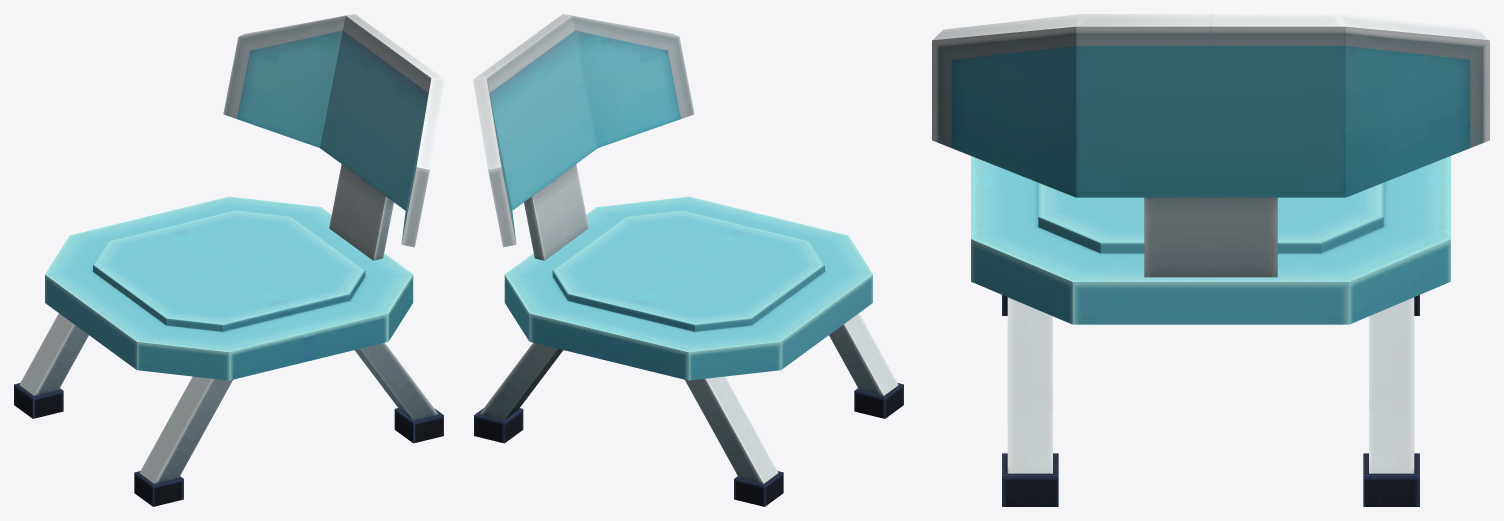
The model's file is my_millenniumlounge_01_chair_01.glb.
The picture shows the model from 3 angles, left to right: view 1: azimuth 30°, elevation 25°; view 2: azimuth 150°, elevation 25°; view 3: azimuth 270°, elevation 25°; orthographic projection. The views are drawn at different scales.
Parts seen in each view (by area): view 1: my_millenniumlounge_01_chair_01; view 2: my_millenniumlounge_01_chair_01; view 3: my_millenniumlounge_01_chair_01.
Boxes of the visible parts, left/top/right/bottom form: my_millenniumlounge_01_chair_01: left=14, top=14, right=444, bottom=506; my_millenniumlounge_01_chair_01: left=473, top=14, right=903, bottom=506; my_millenniumlounge_01_chair_01: left=932, top=14, right=1489, bottom=506.
Bounding box in the file's own units: 0.00433 × 0.00437 × 0.00439.
1 material, 1 textured.
